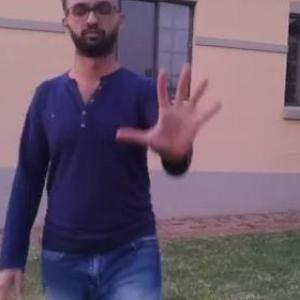follow_hand: (114, 57, 228, 164)
